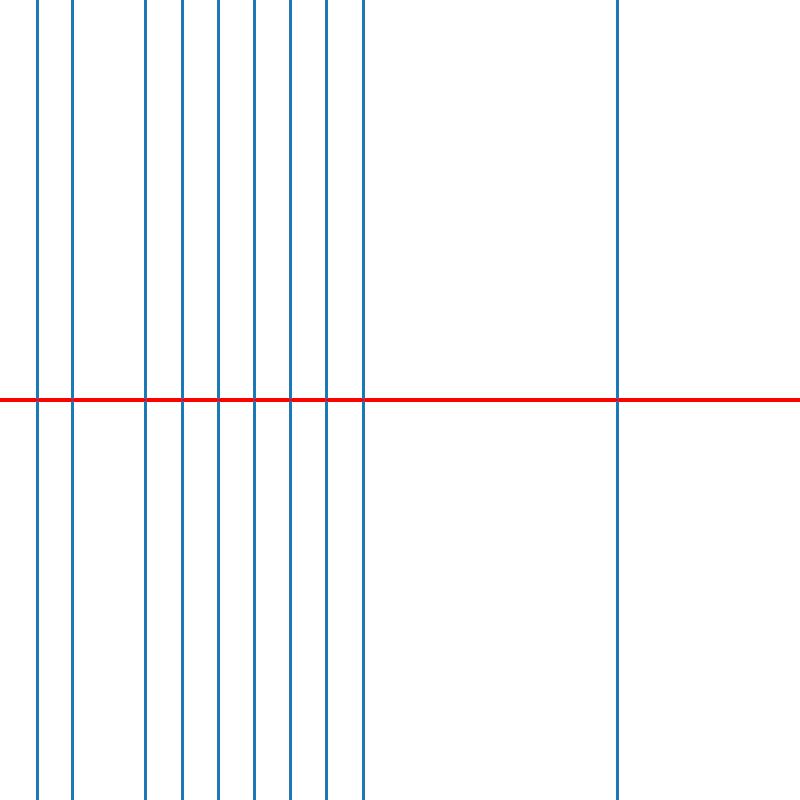root: (141, 396, 149, 404), (250, 396, 258, 404), (32, 396, 40, 404), (360, 396, 367, 404), (214, 396, 221, 404), (323, 396, 330, 404), (614, 396, 621, 404), (69, 396, 76, 404), (178, 396, 185, 404), (287, 396, 294, 404)
